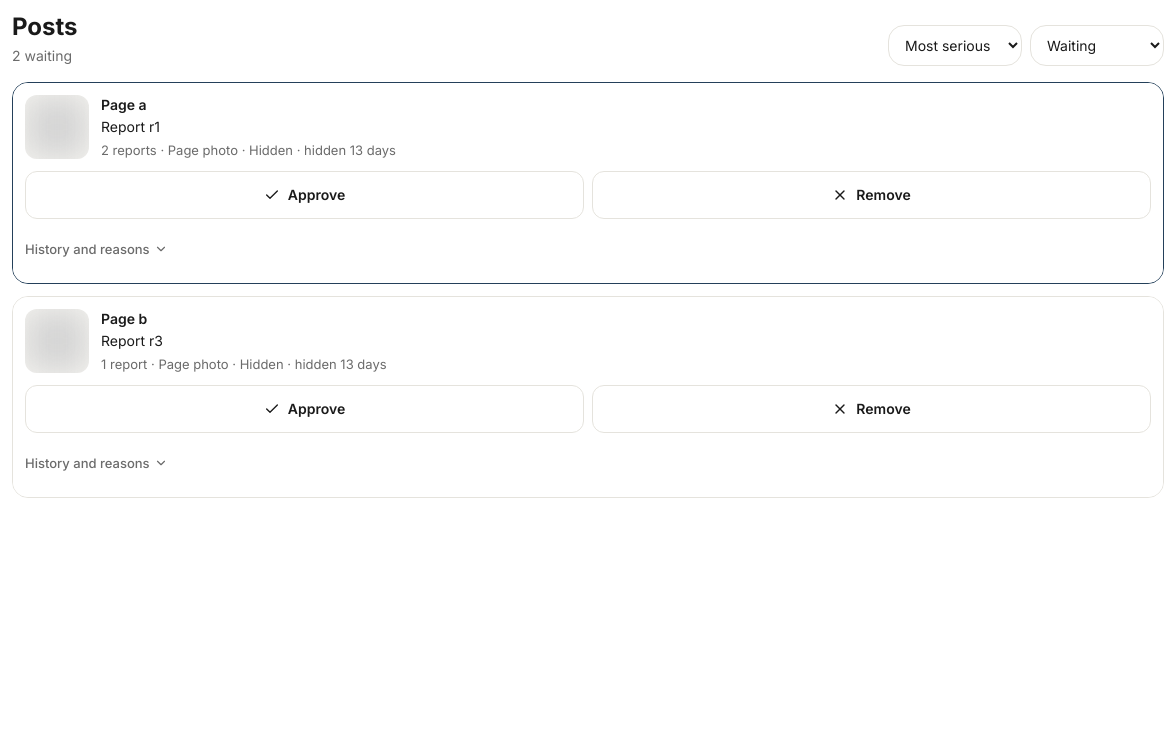
F101 — one tap, then a five-second Undo › a swipe right approves, past the threshold only
Press the mouse on the element with class "touch-pan-y" that starts with "Page a": (588, 183) [13, 83, 1163, 283]
Press the mouse on the element with class "touch-pan-y" that starts with "Page a": (588, 183) [13, 83, 1163, 283]
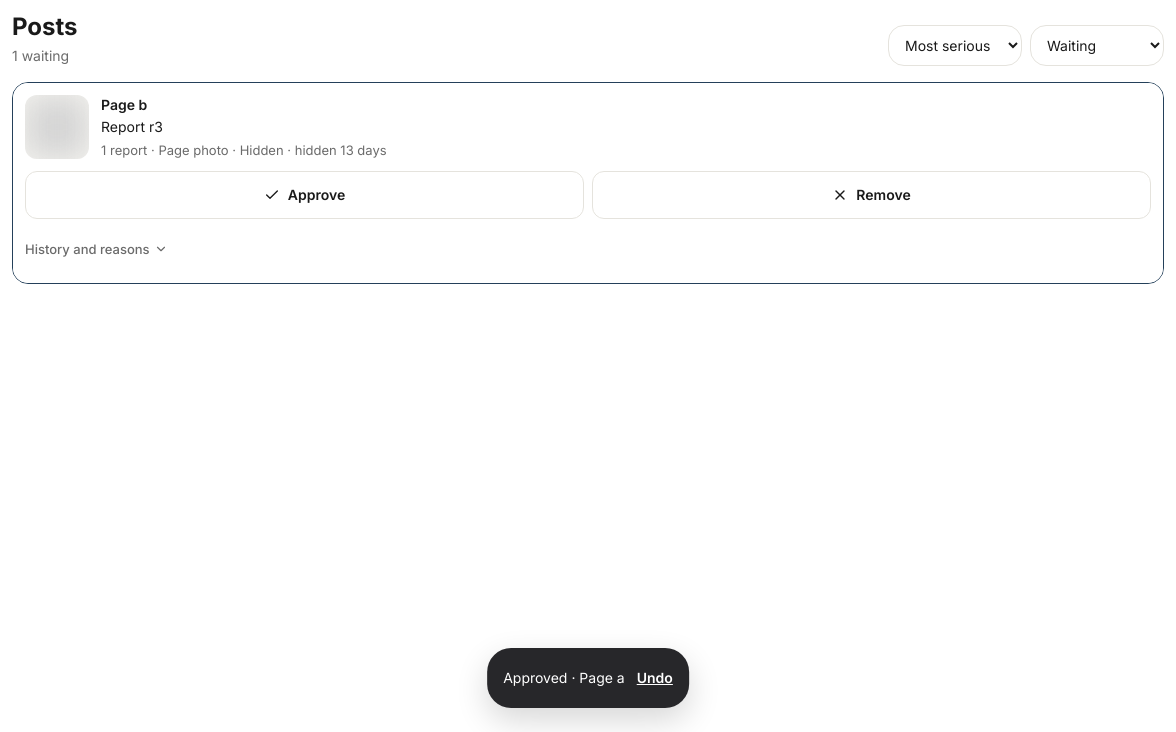
Expected: the number of list items with test id "review-row" is 1, [12, 82, 1164, 284]
Expected: the message shows "Approved", [503, 669, 625, 686]
